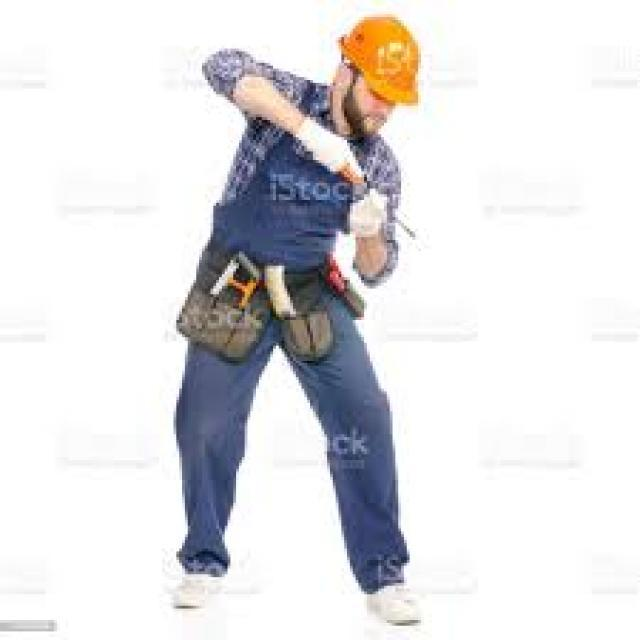screwdriver: (308, 142, 422, 245)
